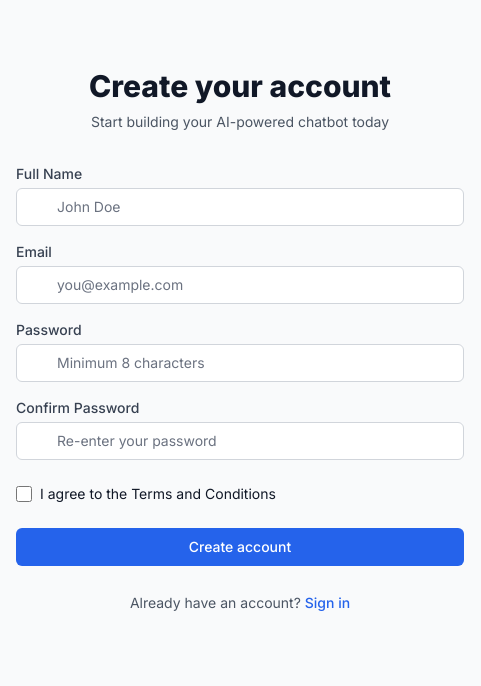
SignupPage › displays validation error when passwords do not match
The width and height of the screenshot is (481, 686).
Type "password123" into the password field labelled "Password" at (240, 363), box left=16, top=344, right=464, bottom=382
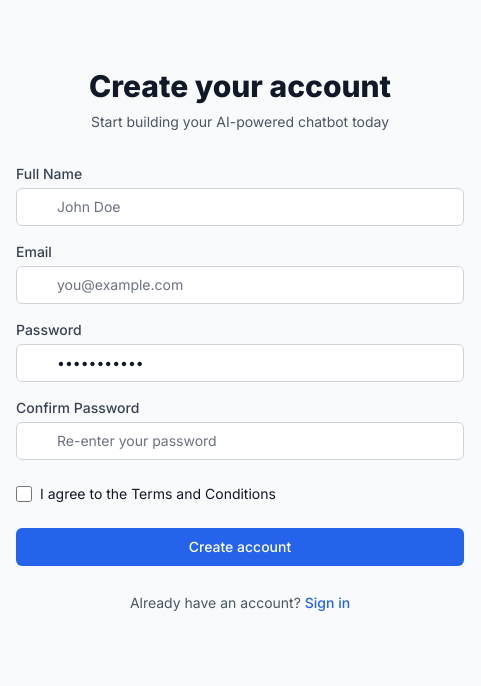
Type "password456" into the password field labelled "Confirm Password" at (240, 441), box left=16, top=422, right=464, bottom=460
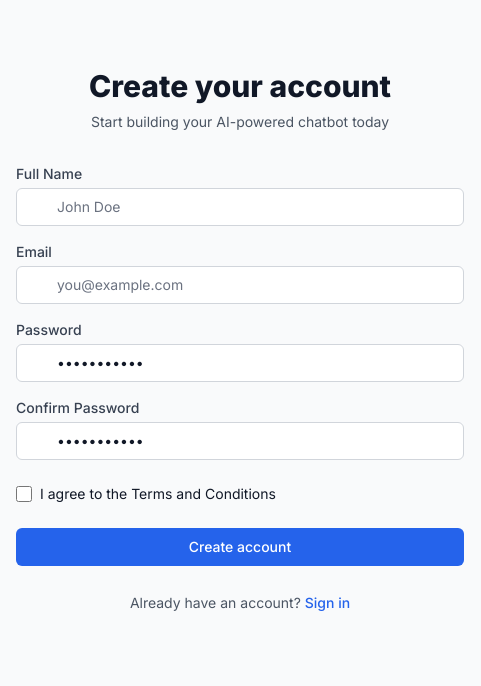
Click the button "Create account" at (240, 547), box left=16, top=528, right=464, bottom=566
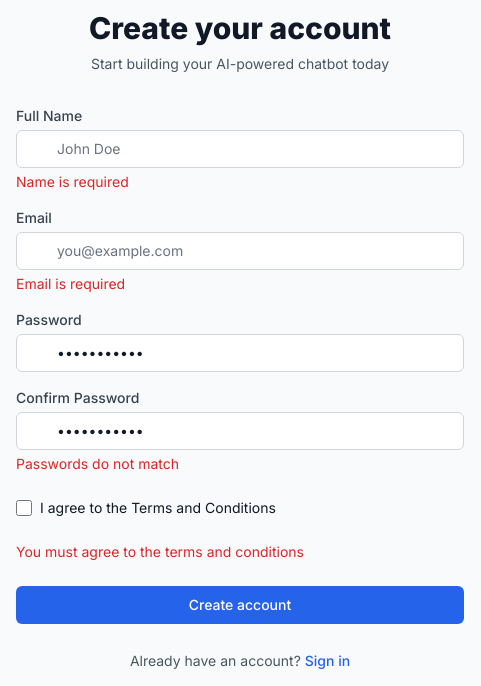
Expected: the text "Passwords do not match" is shown, left=16, top=455, right=179, bottom=472
